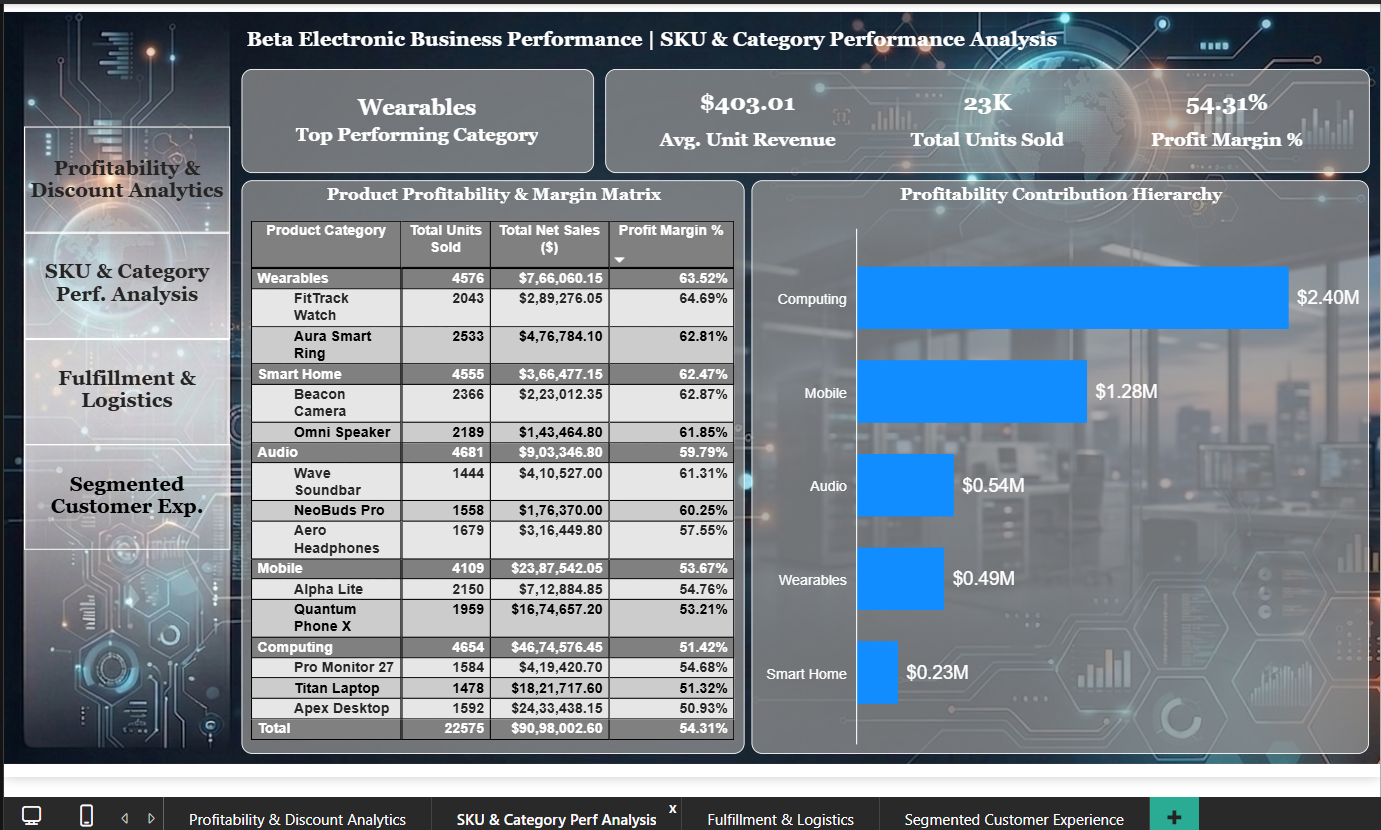

The page's visual inventory and layout, read from the dashboard file:
{"tool":"powerbi","page":{"name":"SKU & Category Perf Analysis","canvas":[1280,720],"ordinal":1},"visuals":[{"type":"cardVisual","fields":{"Data":["Beta_Electronics_Data.Avg. Unit Revenue","Beta_Electronics_Data.Total Units Sold","Beta_Electronics_Data.Profit Margin"]},"box":[559.1,60.6,711.3,96.5],"z":0},{"type":"textbox","box":[221.2,17,1049.2,35.2],"z":1000},{"type":"textbox","box":[18.6,137.3,191.7,54.4],"z":2000},{"type":"textbox","box":[18.6,233.7,191.9,76.7],"z":3000},{"type":"textbox","box":[18.6,332.7,191.7,54.4],"z":4000},{"type":"textbox","box":[18.6,431.7,191.7,54.4],"z":5000},{"type":"actionButton","box":[18.2,409.7,192.1,98.5],"z":6000},{"type":"pivotTable","title":"Product Profitability & Margin Matrix","fields":{"Rows":["Beta_Electronics_Data.Product Category","Beta_Electronics_Data.Product Name"],"Values":["Beta_Electronics_Data.Total Units Sold","Beta_Electronics_Data.Total Net Sales ($)","Beta_Electronics_Data.Profit Margin"]},"box":[221.2,164.4,468.4,533.8],"z":7000},{"type":"clusteredBarChart","title":"Profitability Contribution Hierarchy","fields":{"Category":["Beta_Electronics_Data.Product Category","Beta_Electronics_Data.Product Name","Beta_Electronics_Data.Sales Channel"],"Y":["Beta_Electronics_Data.Total Profit ($)"]},"box":[695.7,164.4,574.6,533.8],"z":8000},{"type":"actionButton","box":[18.5,311.4,191.5,98.9],"z":9000},{"type":"actionButton","box":[18.6,212.8,191.9,98.8],"z":10000},{"type":"actionButton","box":[18.6,114,191.9,98.8],"z":11000},{"type":"cardVisual","fields":{"Data":["Min(Beta_Electronics_Data.Product Category)"]},"box":[221.4,60.6,327.8,96.5],"z":12000}]}

Visuals, with their boxes on the page's 1280x720 design canvas (x1, y1, x2, y2). These are canvas units, not pixel positions in the 1381x830 screenshot, which may show the page scaled, cropped or inside an application window:
cardVisual - Beta_Electronics_Data.Avg. Unit Revenue x Beta_Electronics_Data.Total Units Sold: [559,61,1270,157]
textbox: [221,17,1270,52]
textbox: [19,137,210,192]
textbox: [19,234,210,310]
textbox: [19,333,210,387]
textbox: [19,432,210,486]
actionButton: [18,410,210,508]
"Product Profitability & Margin Matrix" pivotTable: [221,164,690,698]
"Profitability Contribution Hierarchy" clusteredBarChart: [696,164,1270,698]
actionButton: [18,311,210,410]
actionButton: [19,213,210,312]
actionButton: [19,114,210,213]
cardVisual - Min(Beta_Electronics_Data.Product Category): [221,61,549,157]
